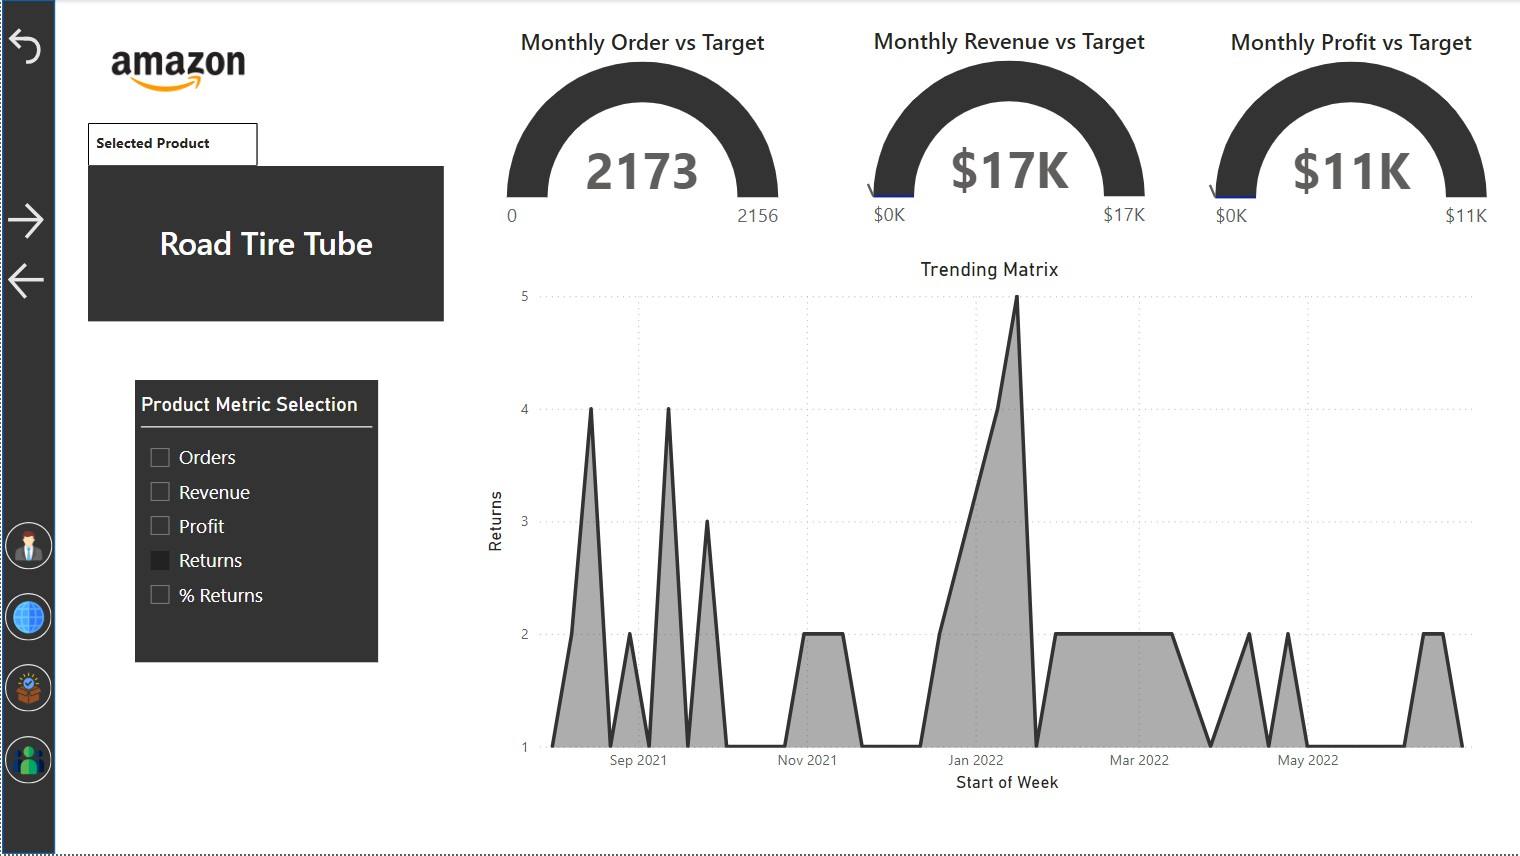

The page's visual inventory and layout, read from the dashboard file:
{"tool":"powerbi","page":{"name":"Product Details","canvas":[1280,720],"ordinal":2},"visuals":[{"type":"textbox","box":[73,104,143,36],"z":0},{"type":"gauge","title":"Monthly Order vs Target","fields":{"Y":["Measures Collection.Total Orders"],"MaxValue":["Measures Collection.Target Orders"]},"box":[416.5,21.9,248.7,180.4],"z":1000},{"type":"actionButton","box":[4,440,40,40],"z":1000,"group":"g1"},{"type":"gauge","title":"Monthly Revenue vs Target","fields":{"Y":["Measures Collection.Revenue"],"MaxValue":["Measures Collection.Target Revenue"]},"box":[725.1,21.1,249.6,180.4],"z":2000},{"type":"actionButton","box":[3.6,500,39.4,40.3],"z":2000,"group":"g1"},{"type":"gauge","title":"Monthly Profit vs Target","fields":{"MaxValue":["Measures Collection.Target Profit"],"Y":["Measures Collection.Profit"]},"box":[1013.4,21.9,249.6,180.4],"z":3000},{"type":"actionButton","box":[3.6,560,39.4,40.3],"z":3000,"group":"g1"},{"type":"areaChart","title":"Trending Matrix","fields":{"Y":["Measures Collection.Total Returns"],"Category":["Calendar Lookup.Start Heirarchy.Start of Year","Calendar Lookup.Start Heirarchy.Start of Quarter","Calendar Lookup.Start Heirarchy.Start of Month","Calendar Lookup.Start Heirarchy.Start of Week","Calendar Lookup.Start Heirarchy.Start of Day"]},"box":[403.5,216.5,859.1,455.7],"z":4000},{"type":"actionButton","box":[3.6,620,39.4,40.3],"z":4000,"group":"g1"},{"type":"shape","title":"Left Navbar","box":[0.9,0,44.8,720],"z":5000},{"type":"card","fields":{"Values":["Min(Product Lookup.ProductName)"]},"box":[73,140,300,131],"z":6000},{"type":"group","id":"g1","title":"Navigation Option","box":[3.6,440,40.4,220.3],"z":7000},{"type":"actionButton","box":[0,165.7,44.8,40.3],"z":8000},{"type":"actionButton","box":[1.8,216.7,44.8,40.3],"z":9000},{"type":"actionButton","box":[0,18.8,44.8,40.3],"z":10000},{"type":"slicer","title":"Product Metric Selection","fields":{"Values":["Parameter.Parameter"]},"box":[112.8,320.6,205.1,238.2],"z":11000},{"type":"image","title":"Amazon Logo","box":[45,0,208,122],"z":12000}]}

Visuals, with their boxes on the page's 1280x720 design canvas (x1, y1, x2, y2). These are canvas units, not pixel positions in the 1520x856 screenshot, which may show the page scaled, cropped or inside an application window:
textbox: <region>73, 104, 216, 140</region>
"Monthly Order vs Target" gauge: <region>416, 22, 665, 202</region>
actionButton: <region>4, 440, 44, 480</region>
"Monthly Revenue vs Target" gauge: <region>725, 21, 975, 202</region>
actionButton: <region>4, 500, 43, 540</region>
"Monthly Profit vs Target" gauge: <region>1013, 22, 1263, 202</region>
actionButton: <region>4, 560, 43, 600</region>
"Trending Matrix" areaChart: <region>404, 216, 1263, 672</region>
actionButton: <region>4, 620, 43, 660</region>
"Left Navbar" shape: <region>1, 0, 46, 720</region>
card - Min(Product Lookup.ProductName): <region>73, 140, 373, 271</region>
"Navigation Option" group: <region>4, 440, 44, 660</region>
actionButton: <region>0, 166, 45, 206</region>
actionButton: <region>2, 217, 47, 257</region>
actionButton: <region>0, 19, 45, 59</region>
"Product Metric Selection" slicer: <region>113, 321, 318, 559</region>
"Amazon Logo" image: <region>45, 0, 253, 122</region>
